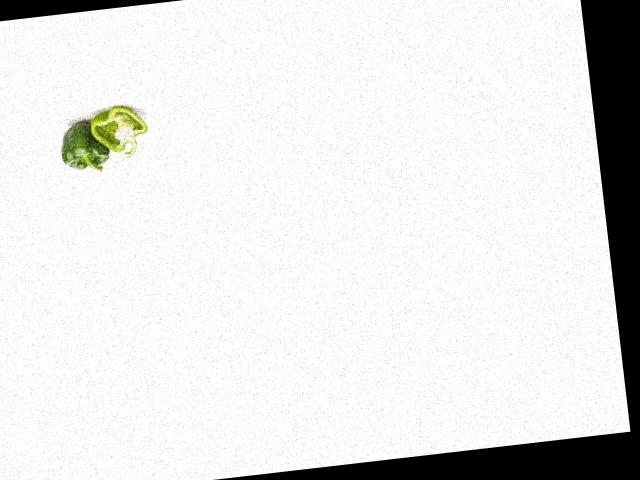bell_pepper: (86, 104, 153, 164)
